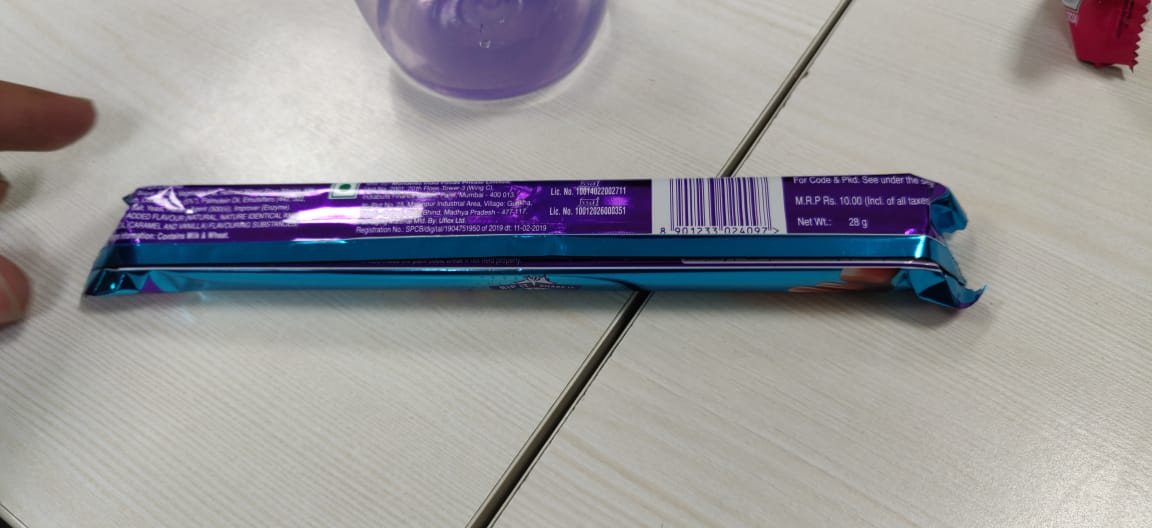perk: (79, 170, 999, 324)
